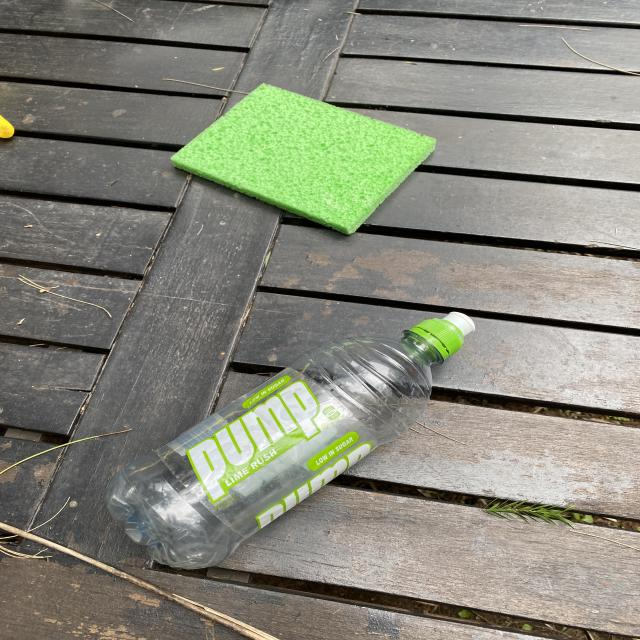bottle: (107, 311, 476, 570)
sponge: (171, 83, 437, 236)
